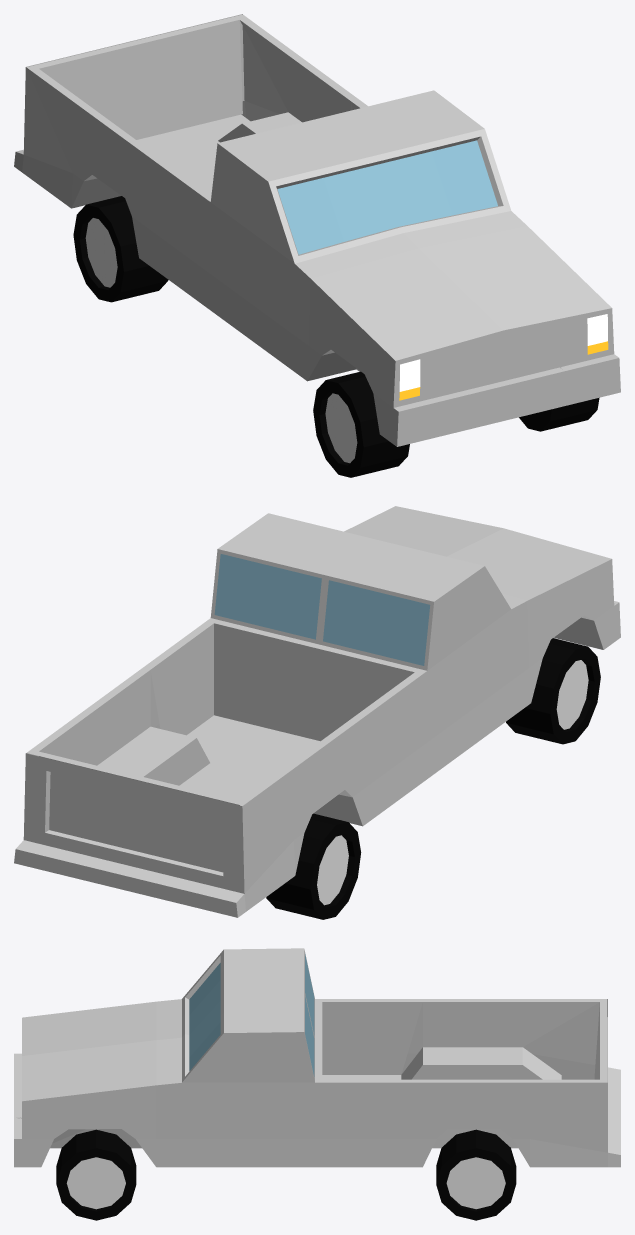
The model's file is truck.glb.
The picture shows the model from 3 angles, top to bottom: view 1: azimuth 30°, elevation 25°; view 2: azimuth 150°, elevation 25°; view 3: azimuth 270°, elevation 25°; orthographic projection. The views are drawn at different scales.
Visible parts, largest first — view 1: Cube, Circle.002, Circle.003, Circle; view 2: Cube, Circle.002, Circle.003; view 3: Cube, Circle, Circle.001.
Boxes of the visible parts, x1=… form: Cube: x1=14, y1=14, x2=620, y2=446; Circle.002: x1=313, y1=371, x2=409, y2=477; Circle.003: x1=73, y1=196, x2=168, y2=302; Circle: x1=519, y1=397, x2=599, y2=431; Cube: x1=14, y1=506, x2=620, y2=917; Circle.002: x1=506, y1=638, x2=600, y2=744; Circle.003: x1=266, y1=813, x2=361, y2=919; Cube: x1=14, y1=948, x2=620, y2=1167; Circle: x1=56, y1=1129, x2=136, y2=1220; Circle.001: x1=436, y1=1129, x2=516, y2=1220.
Size of the model in its own units: 1.19 by 1.12 by 3.33.
